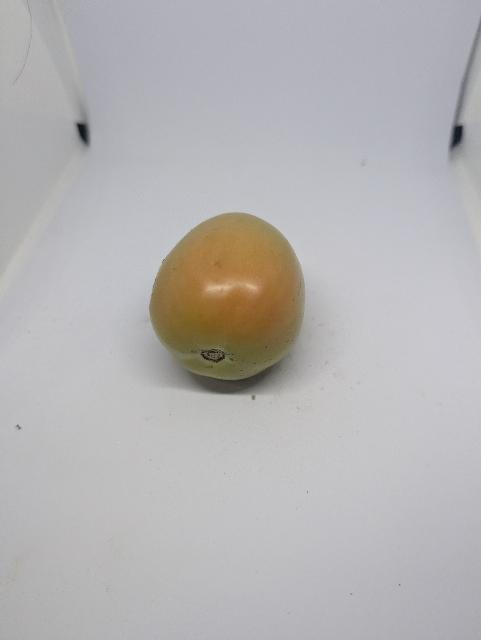breaker: (145, 202, 306, 393)
